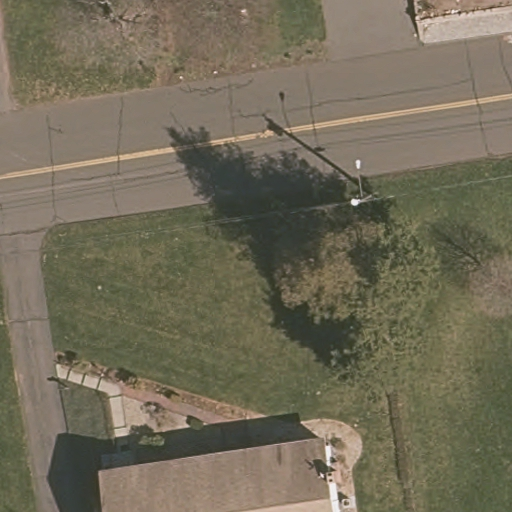DT: (347, 157, 385, 207)
